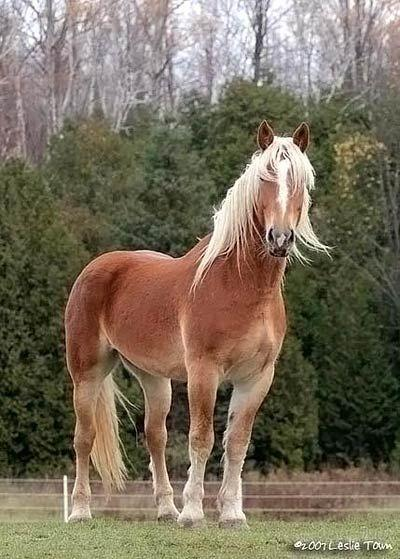horse: (62, 118, 335, 529)
